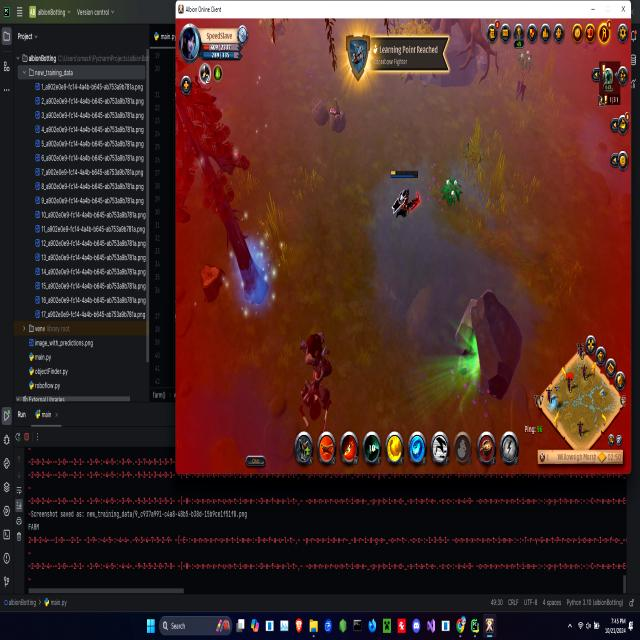hide: (438, 175, 464, 213), (517, 43, 535, 86)
ore: (301, 325, 335, 401)
red: (386, 166, 424, 231)
wisp caged: (176, 77, 281, 317)
